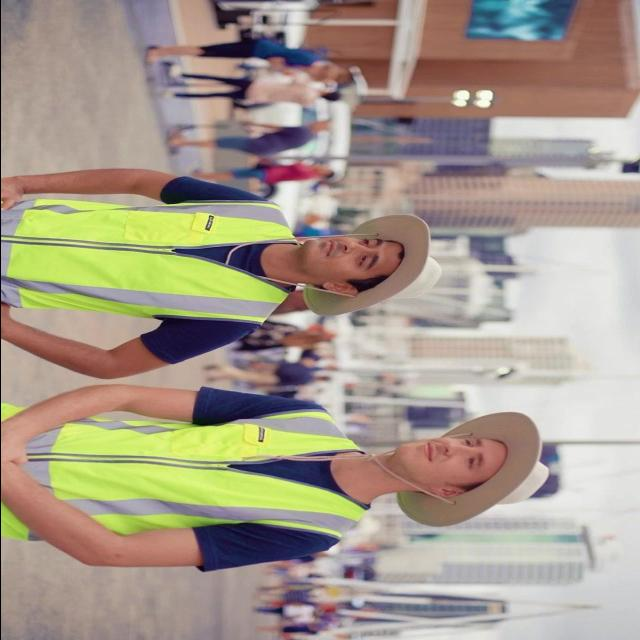jacket: (0, 400, 400, 550), (2, 178, 294, 336)
